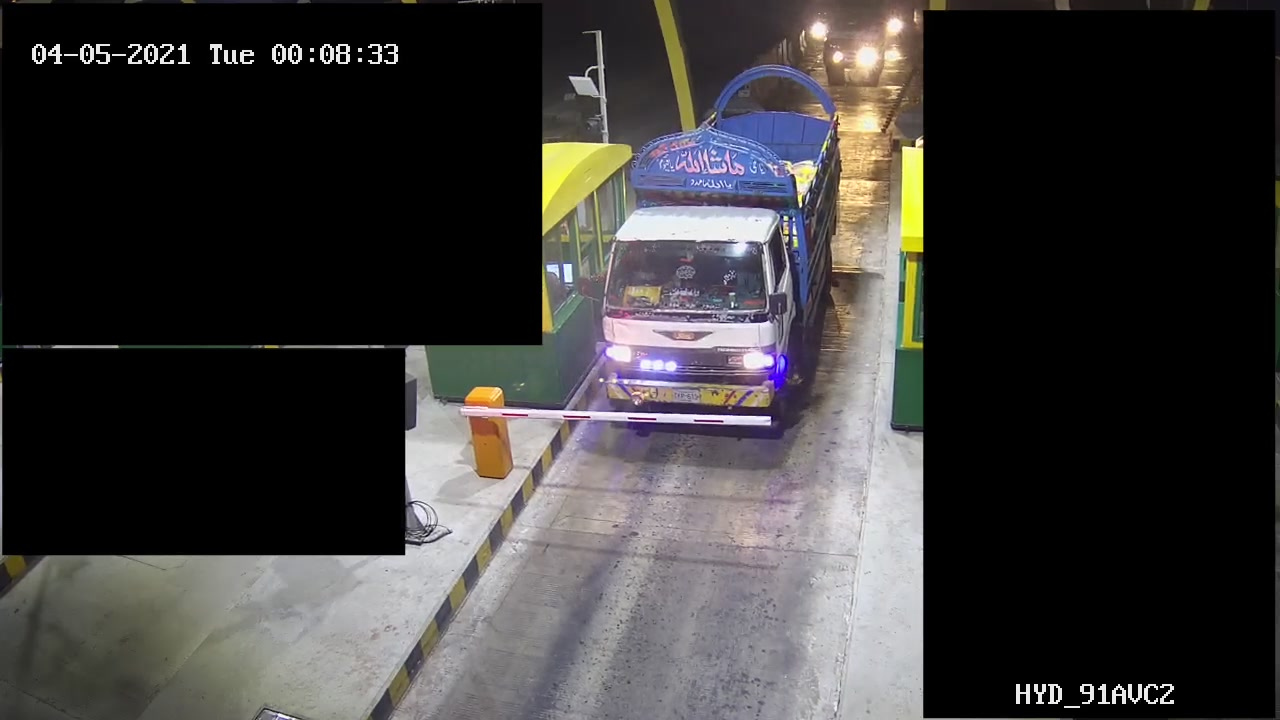F5: (597, 63, 846, 430)
